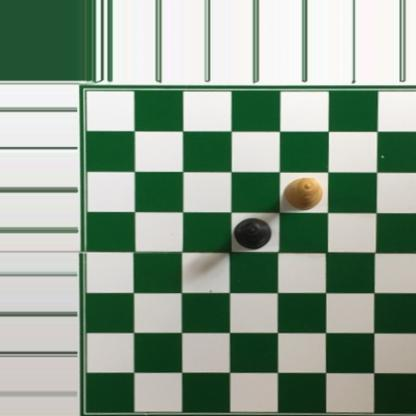black-queen: (233, 218, 273, 250)
white-queen: (282, 175, 325, 210)
